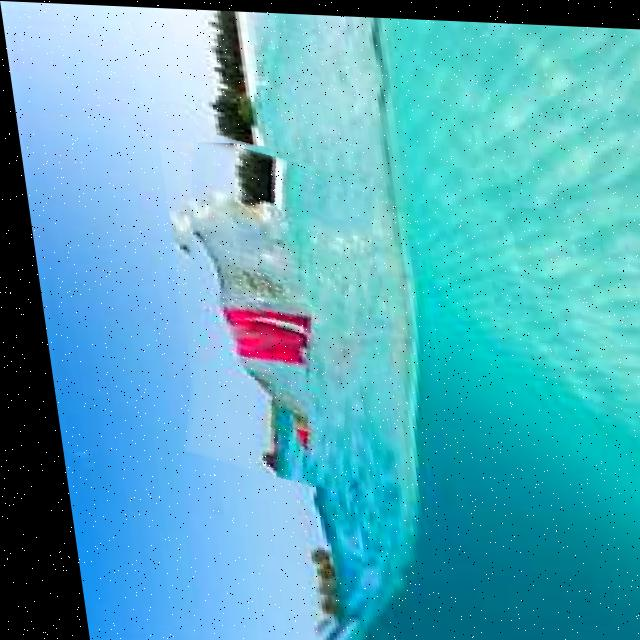plasticbottle: (155, 137, 390, 487)
